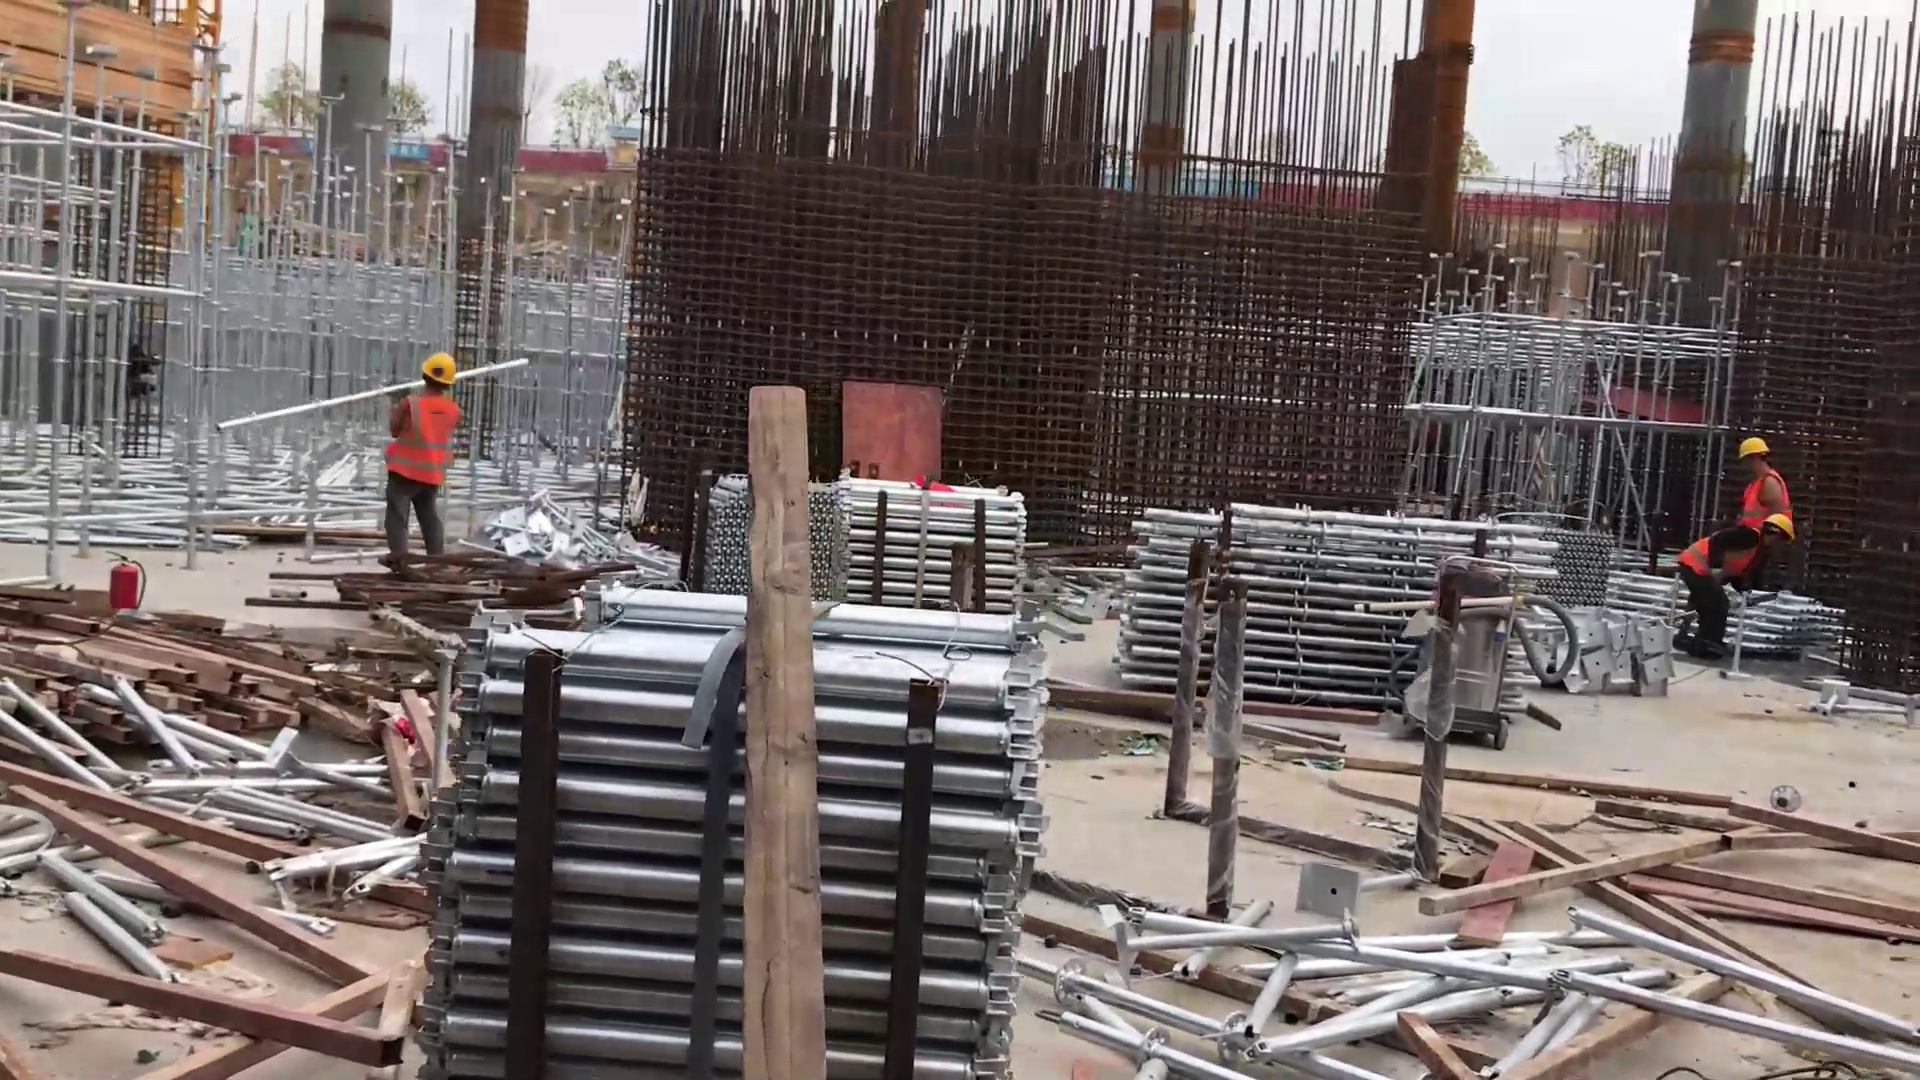board: (837, 374, 947, 491)
helmet: (407, 349, 464, 390), (1760, 506, 1801, 539), (1736, 431, 1769, 470)
person: (386, 349, 465, 580), (1677, 516, 1796, 668), (1736, 435, 1800, 543)
scaffold: (415, 577, 1053, 1080), (1130, 498, 1622, 711), (702, 463, 1032, 624), (1595, 558, 1841, 657)
vest: (386, 391, 462, 501), (1686, 535, 1761, 588), (1738, 477, 1796, 534)
wood: (9, 568, 360, 724)
